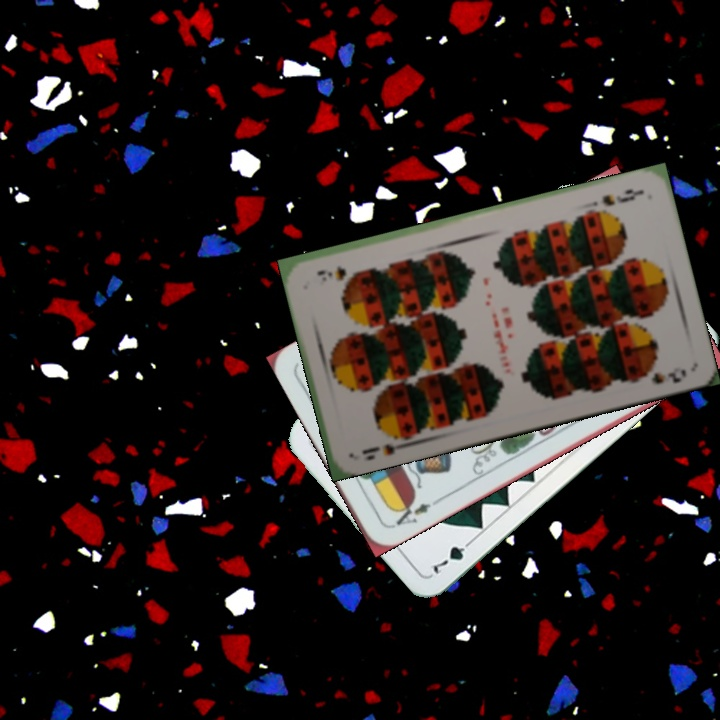EA: (386, 496, 434, 531)
G7: (427, 534, 477, 577)
S9: (357, 428, 411, 463), (598, 185, 646, 209)
